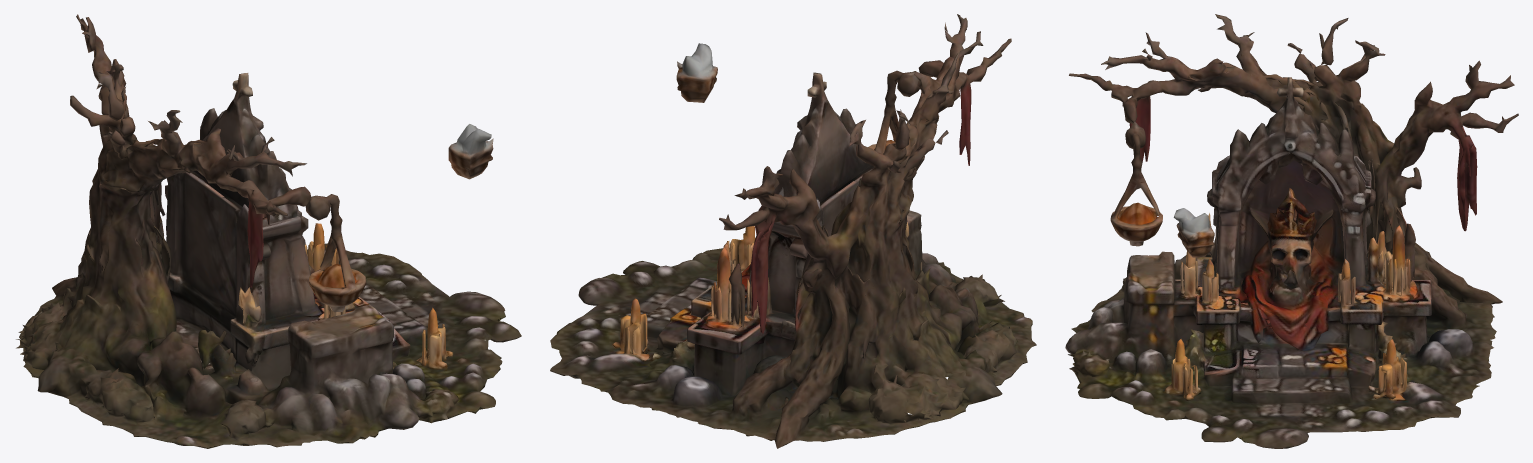
File: lm_ashen_saint_shrine.glb
The picture shows the model from 3 angles, left to right: view 1: azimuth 30°, elevation 25°; view 2: azimuth 150°, elevation 25°; view 3: azimuth 270°, elevation 25°; orthographic projection. The views are drawn at different scales.
Parts seen in each view (by area): view 1: tripo_node_39409396-db8b-42ab-8846-6f32131ad399; view 2: tripo_node_39409396-db8b-42ab-8846-6f32131ad399; view 3: tripo_node_39409396-db8b-42ab-8846-6f32131ad399.
Boxes of the visible parts, x1,y1,x2,y2 form: tripo_node_39409396-db8b-42ab-8846-6f32131ad399: (16, 14, 521, 448); tripo_node_39409396-db8b-42ab-8846-6f32131ad399: (550, 14, 1036, 448); tripo_node_39409396-db8b-42ab-8846-6f32131ad399: (1065, 14, 1518, 448).
Bounding box in the file's own units: 6.5 × 4.53 × 6.27.
Materials: 1 (1 with a texture image).
